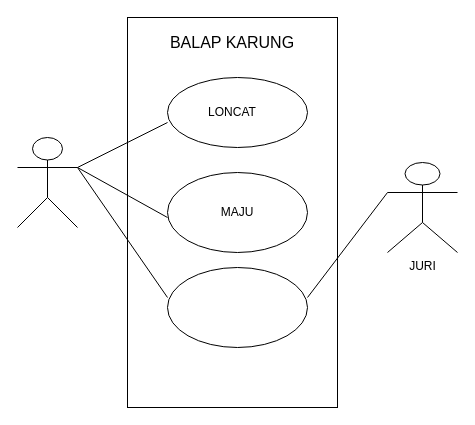
This 475x425 diagram has some shape labels left out. The centre of each missing label's shape, as x and y in pixels:
"FINISH" goes at (x=237, y=307).
"PEMAIN" goes at (x=47, y=182).
